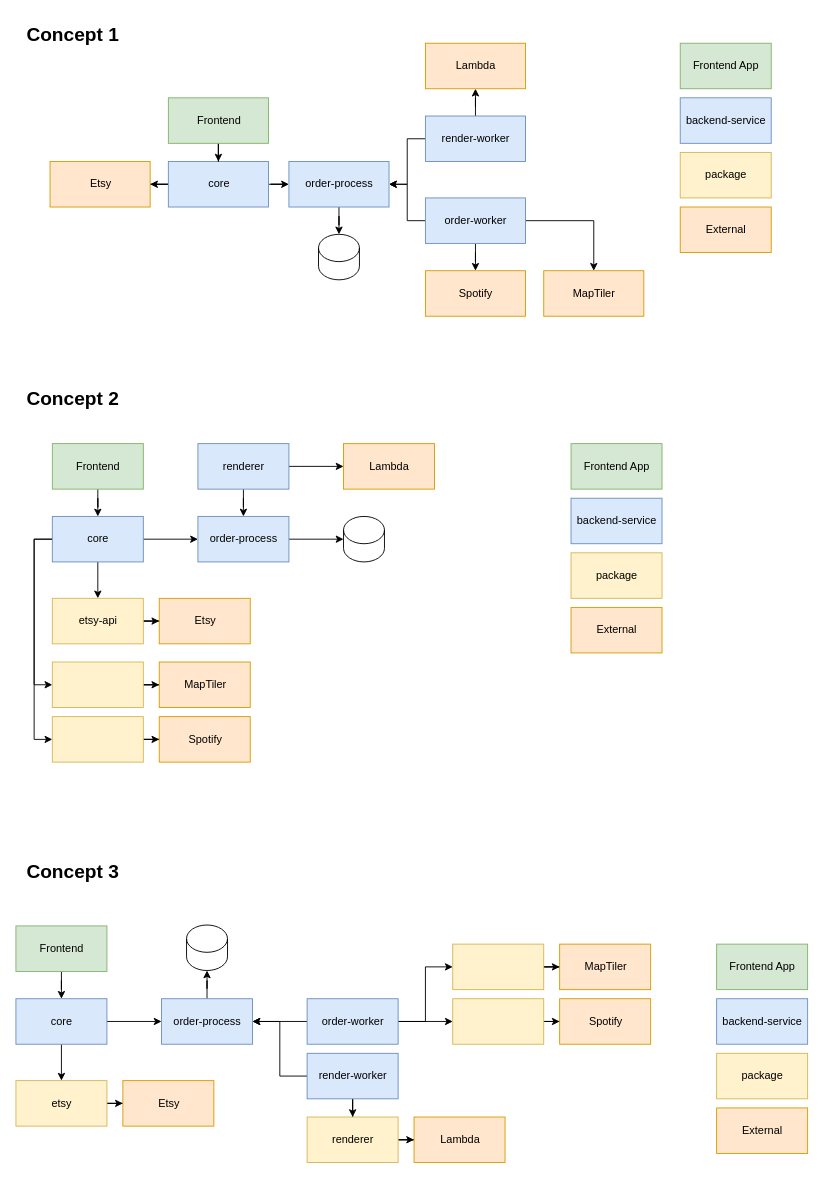
The diagram is 824 pixels wide and 1178 high, and some of its shapes have lost their labels. The box of each missing label's shape, as (x1, y1, x2, y2) in pixels:
map: (452, 943, 544, 990)
maptiler-api: (51, 661, 143, 708)
music: (452, 998, 544, 1044)
spotify-api: (51, 716, 143, 762)
